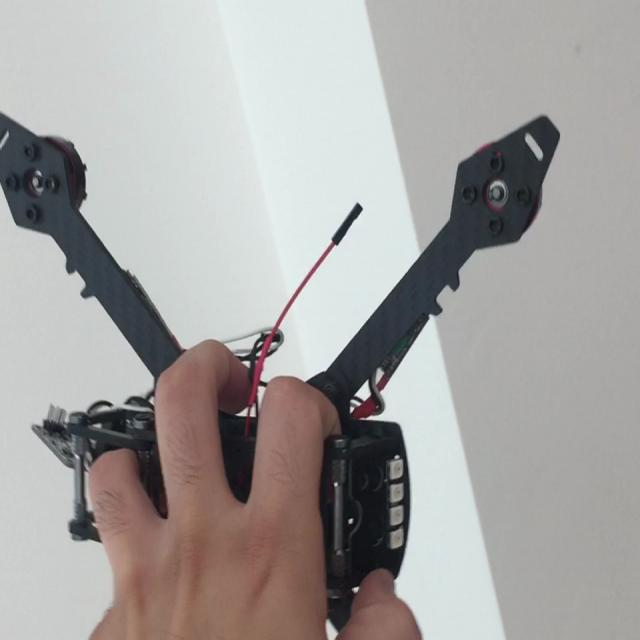drone: (0, 80, 570, 640)
